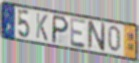0: (107, 25, 123, 53)
5: (17, 8, 31, 39)
E: (69, 16, 87, 50)
K: (35, 11, 49, 43)
N: (86, 20, 106, 53)
P: (51, 14, 70, 45)
